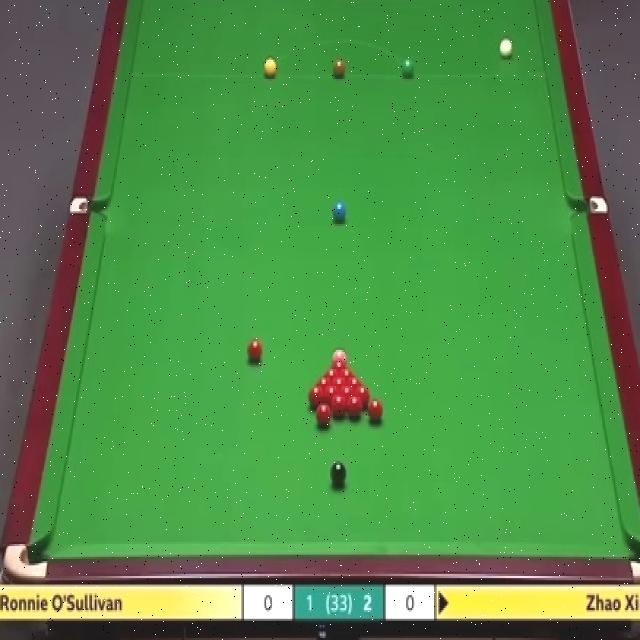black-ball: (330, 460, 347, 487)
blue-ball: (332, 200, 346, 220)
brown-ball: (332, 60, 346, 77)
green-ball: (400, 56, 416, 80)
pink-ball: (332, 348, 348, 366)
red-ball: (308, 384, 326, 409), (347, 394, 363, 422), (367, 398, 383, 424), (248, 338, 262, 365), (315, 402, 332, 424), (338, 386, 356, 406), (332, 393, 347, 416), (354, 386, 371, 406), (346, 375, 363, 390), (332, 375, 347, 391), (316, 375, 333, 389), (325, 366, 340, 381), (339, 365, 353, 381), (326, 387, 337, 407)
white-ball: (498, 37, 514, 56)
yellow-ball: (262, 56, 278, 78)
